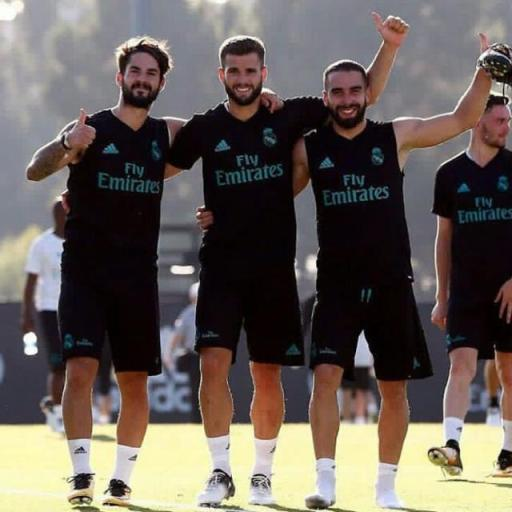Adidas: (318, 155, 336, 171), (214, 139, 232, 154), (102, 142, 120, 155), (456, 182, 472, 194)
Emirates: (320, 172, 392, 209), (214, 150, 283, 188), (96, 160, 163, 196), (454, 194, 512, 228)
